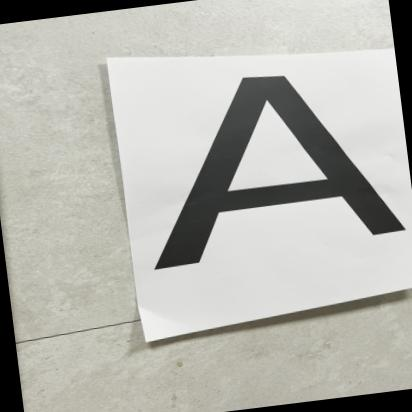seat: (129, 50, 412, 290)
